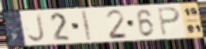2: (105, 8, 129, 40), (50, 12, 71, 41)
6: (136, 8, 156, 38)
I: (80, 10, 92, 41)
J: (26, 12, 47, 43)
P: (156, 7, 182, 38)
